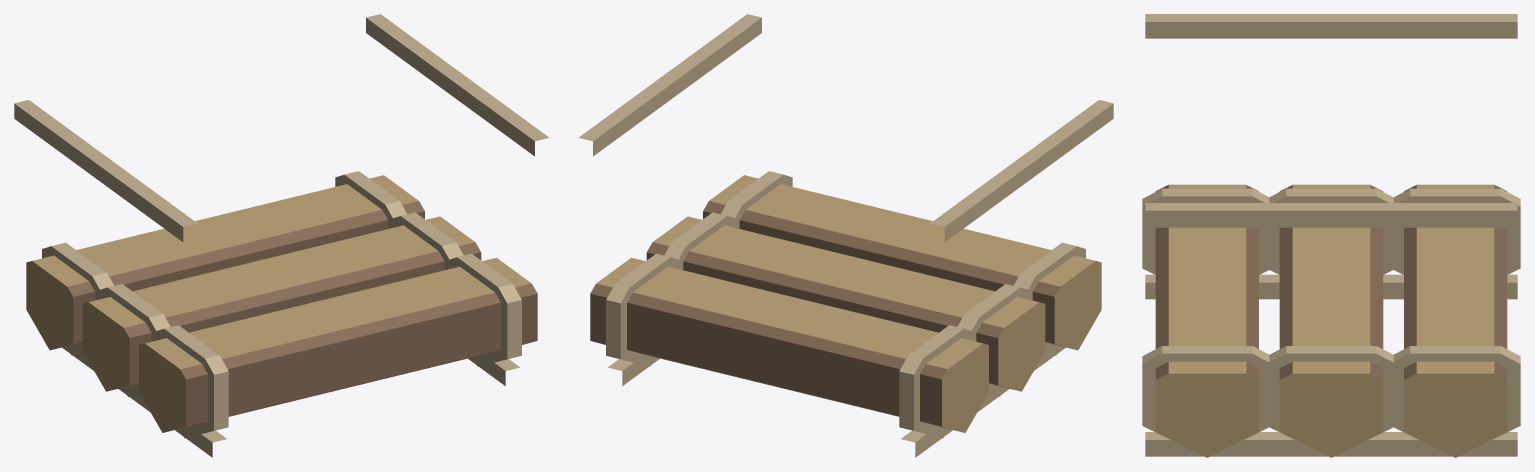
The model's file is Cliff_Prop_Bridge_Rope_Middle.glb.
3 views of the same model, side by side, from view 1: azimuth 30°, elevation 25°; view 2: azimuth 150°, elevation 25°; view 3: azimuth 270°, elevation 25° (orthographic). The views are drawn at different scales.
Parts seen in each view (by area): view 1: Cliff_Prop_Bridge_Rope_Middle; view 2: Cliff_Prop_Bridge_Rope_Middle; view 3: Cliff_Prop_Bridge_Rope_Middle.
Boxes of the visible parts, left/top/right/bottom form: Cliff_Prop_Bridge_Rope_Middle: left=14, top=14, right=549, bottom=457; Cliff_Prop_Bridge_Rope_Middle: left=578, top=14, right=1113, bottom=457; Cliff_Prop_Bridge_Rope_Middle: left=1142, top=14, right=1520, bottom=457.
Bounding box in the file's own units: 1.25 × 0.7789 × 1.02.
